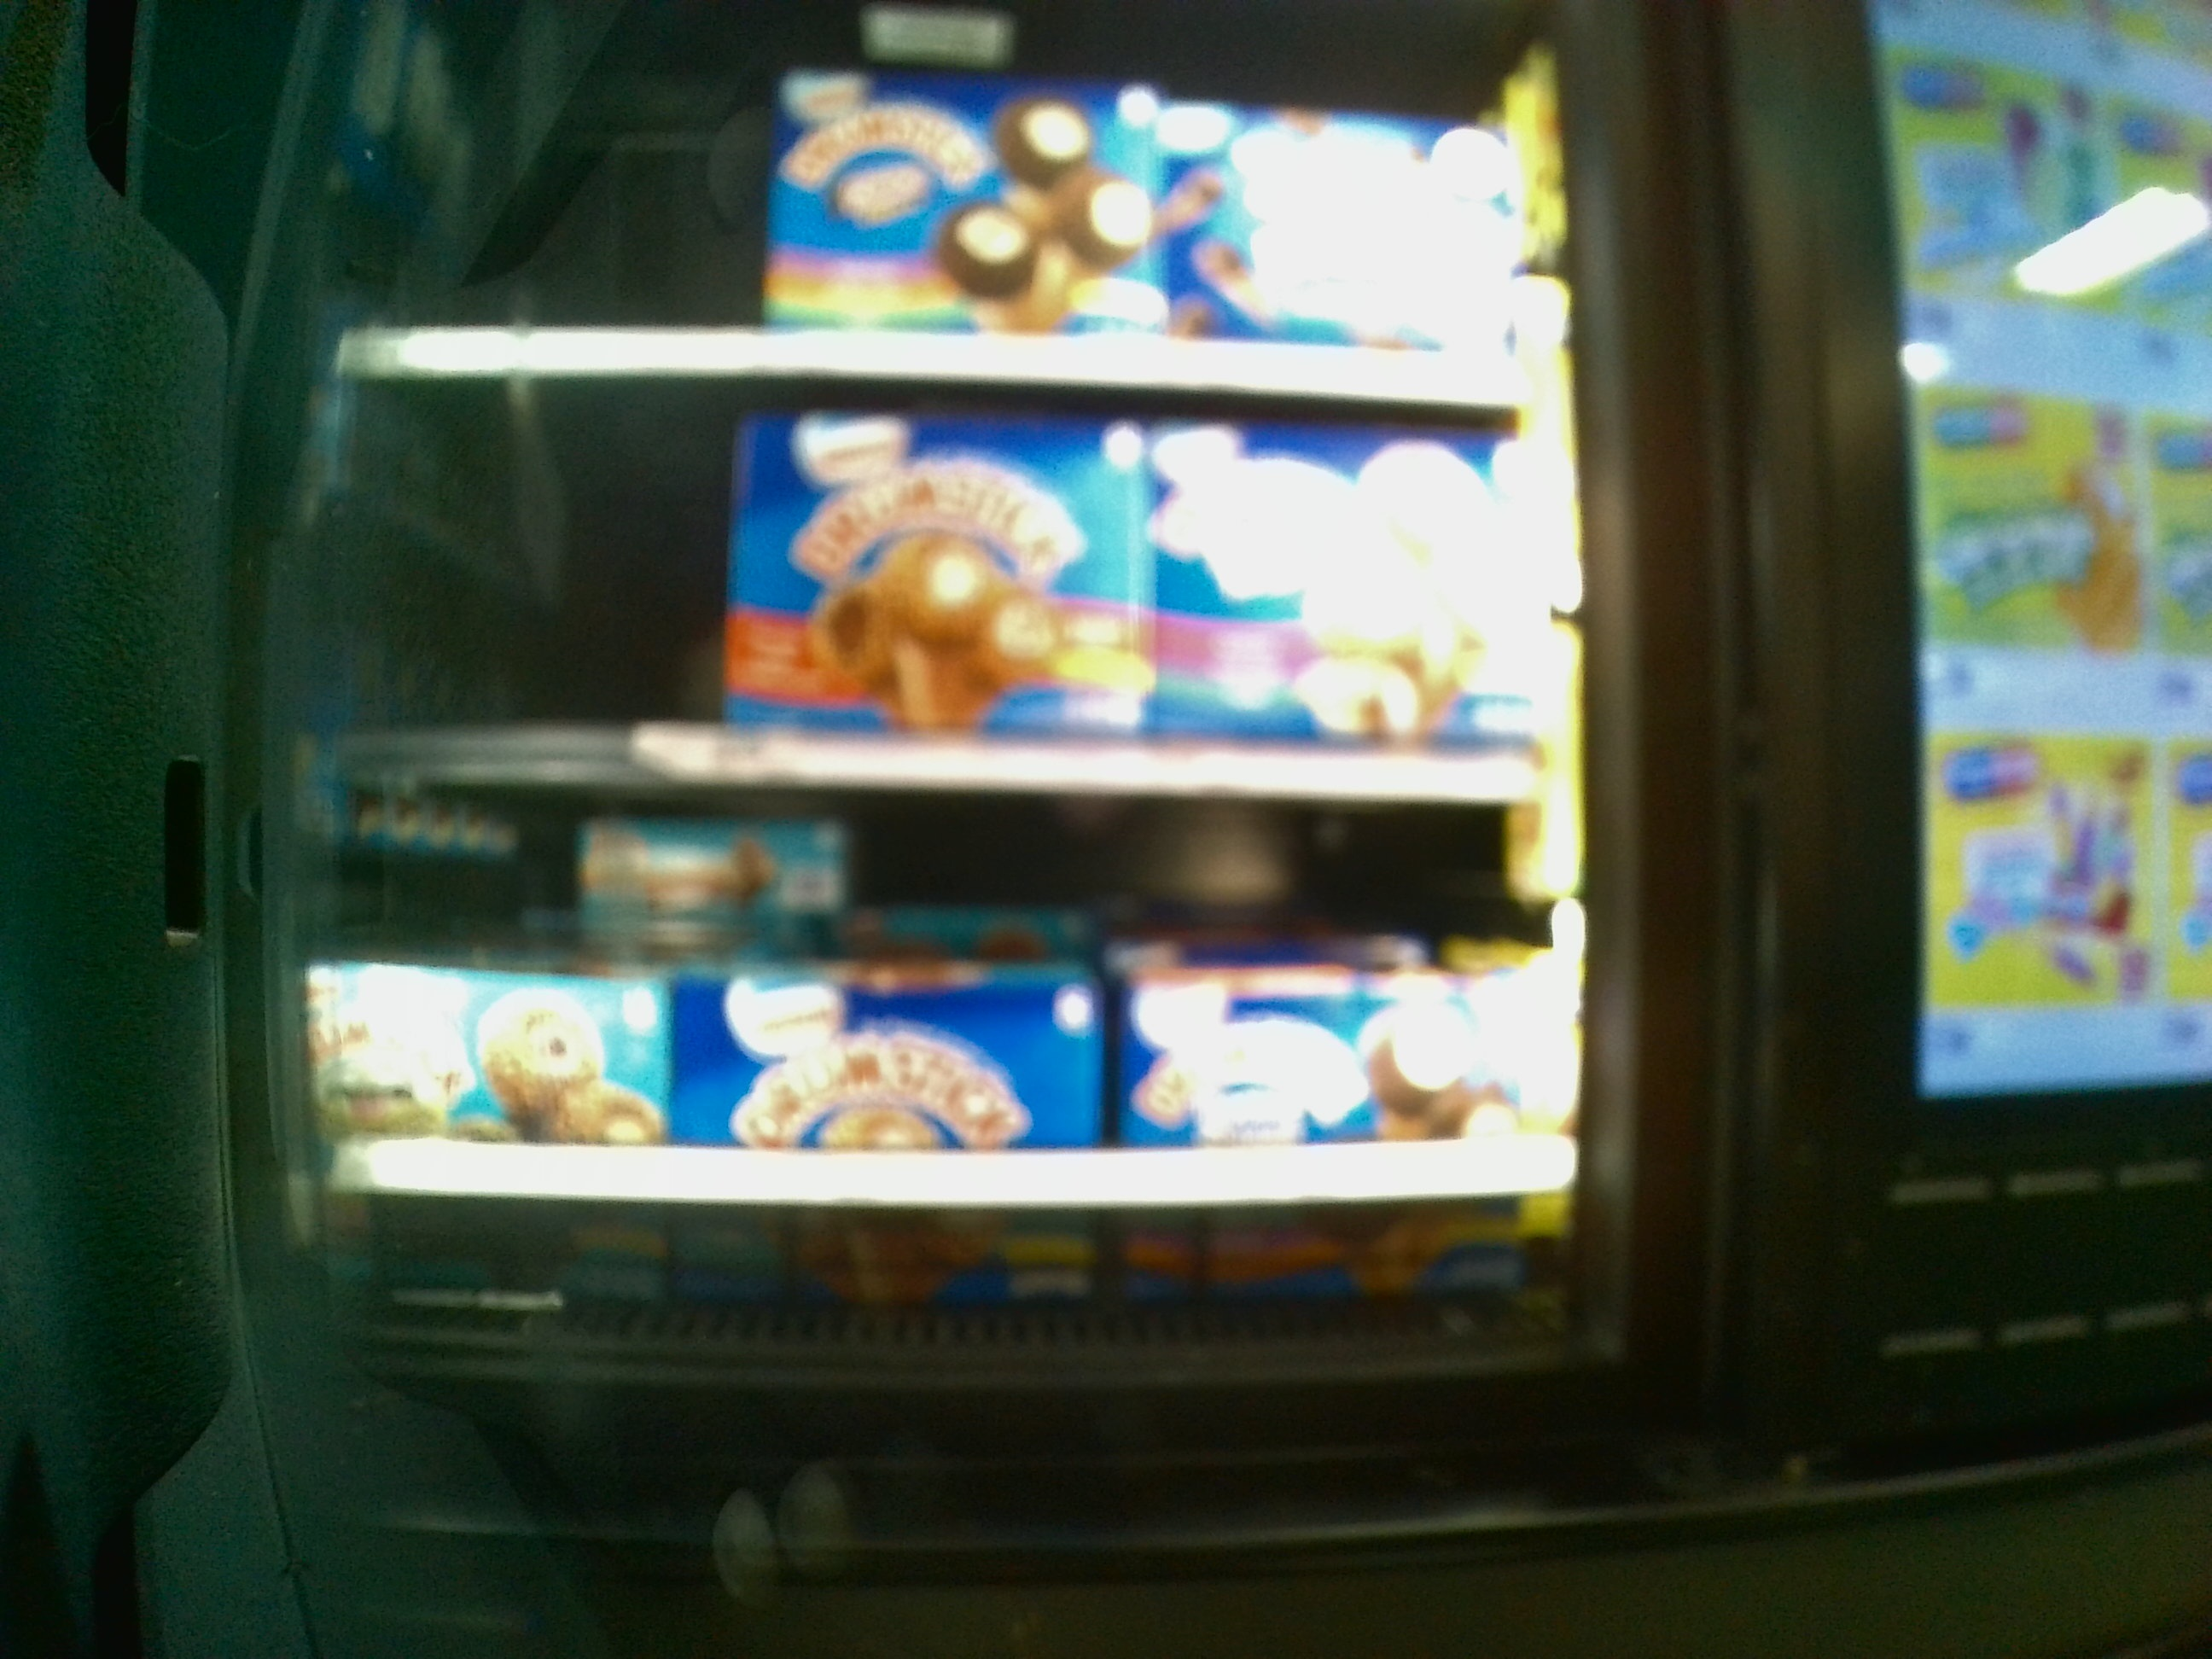shelf: (331, 774, 1566, 1319), (331, 378, 1547, 788)
